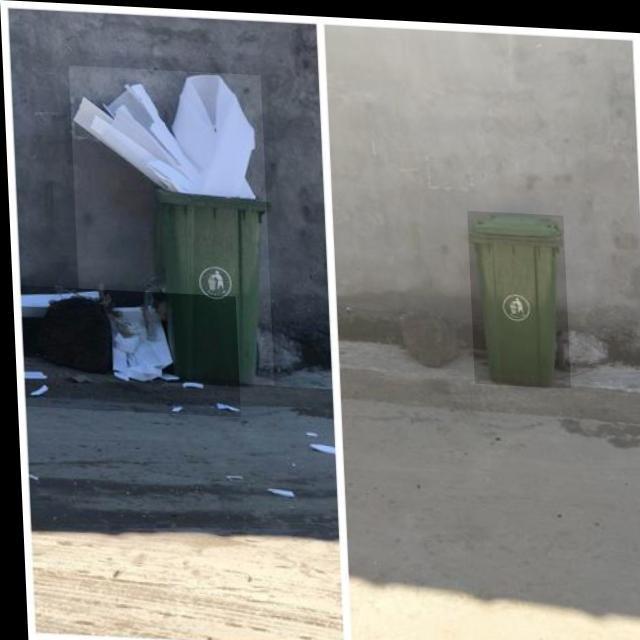garbage: (15, 285, 237, 415)
garbage_bin: (466, 206, 568, 383)
overflow: (69, 65, 272, 383)
